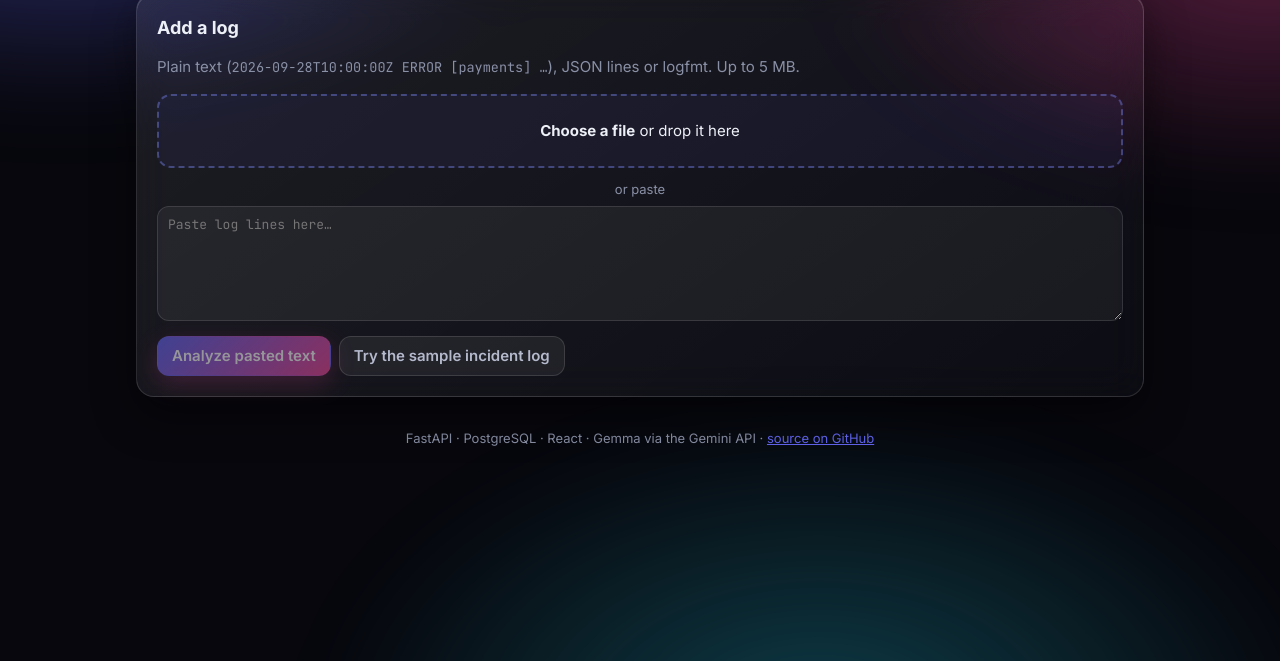
Scenario: App › shows a fail-closed result without any answer text
Click the button "Try the sample incident log" at (452, 356), box [339, 336, 565, 376]
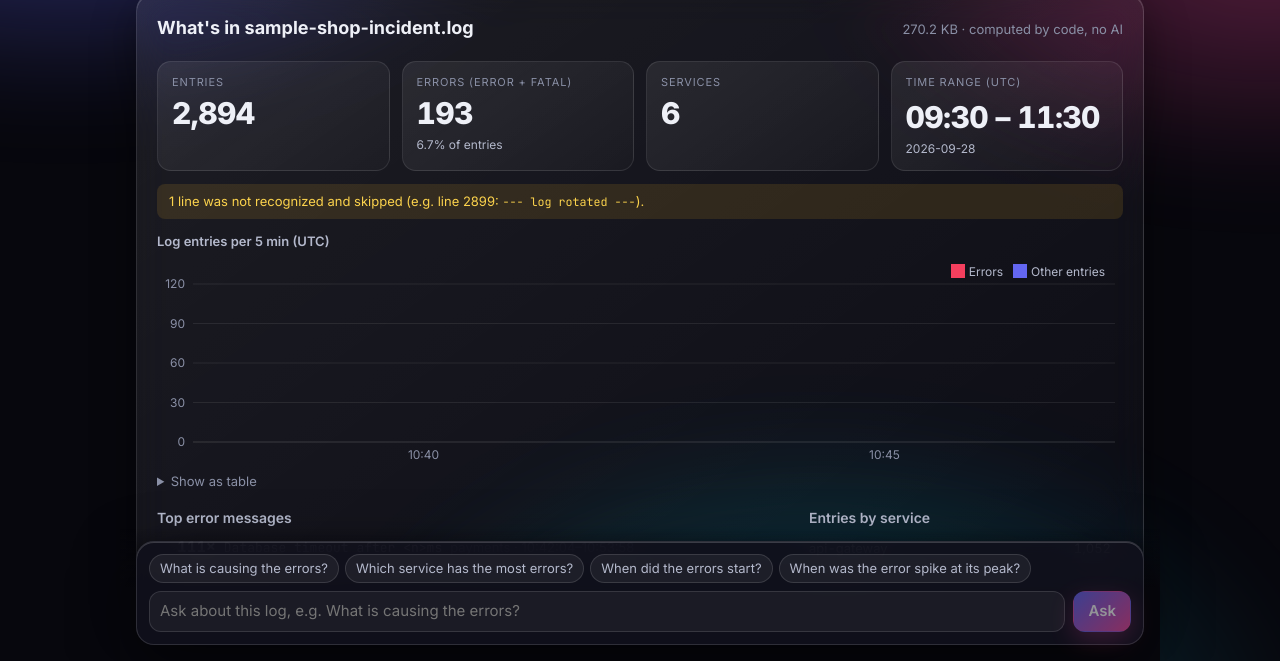
Now the heading "What's in sample-shop-incident.log" is shown, box [157, 14, 474, 41]
Click the button "When was the error spike at its peak?" at (905, 569), box [779, 554, 1031, 584]
(page scrolled)
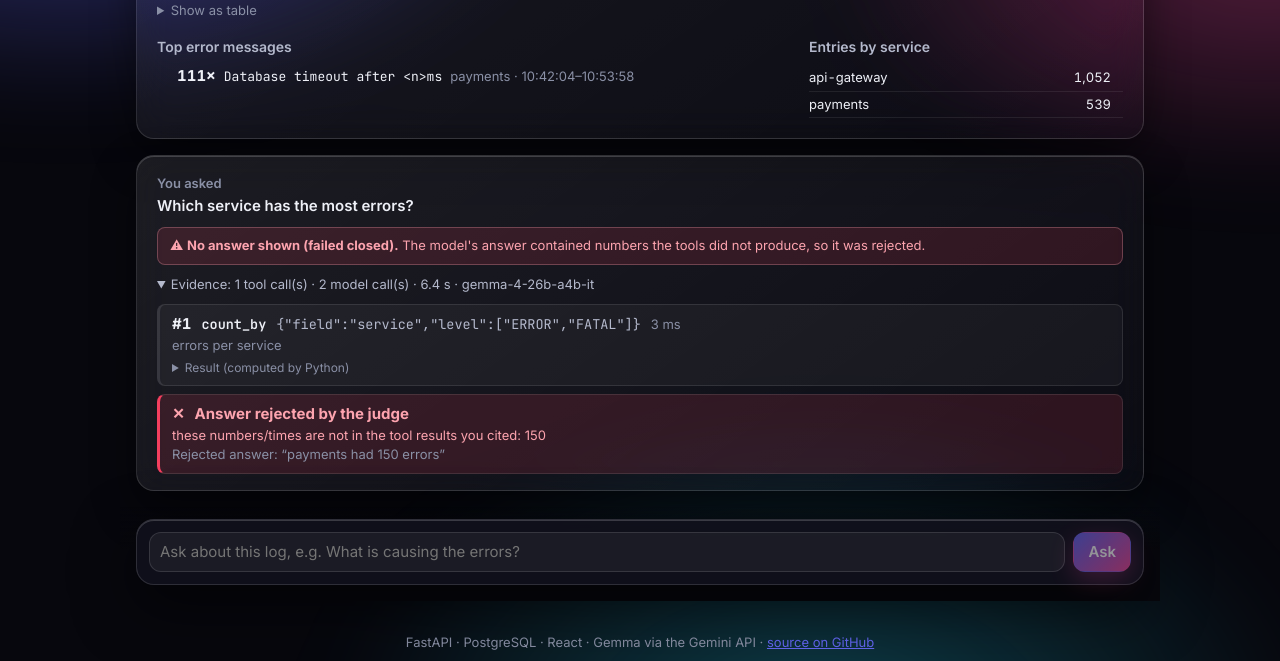
Now the message shows "No answer shown (failed closed)", box [187, 237, 398, 253]
Now the text "Answer rejected by the judge" is shown, box [195, 403, 409, 426]
Now the text "Rejected answer: “payments had 150 errors”" is shown, box [172, 446, 445, 462]
